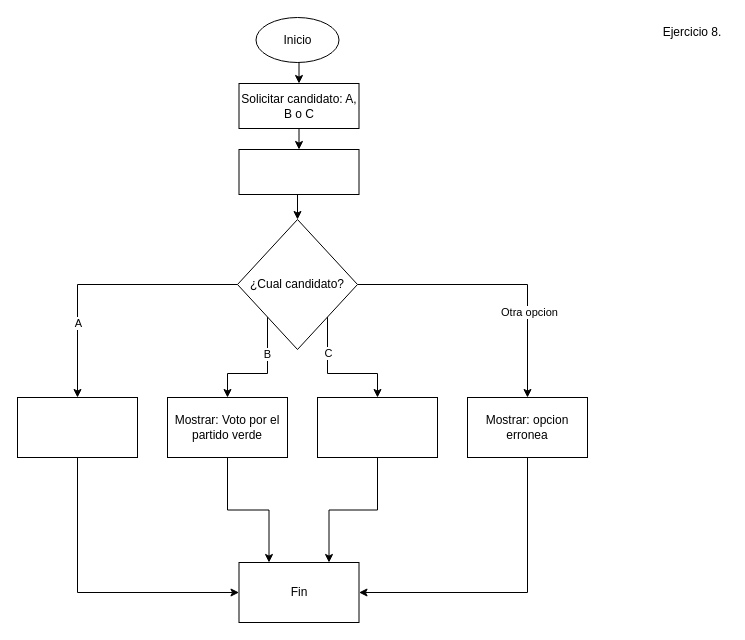
Some shapes in this 745 by 640 pixel diagram are drawn without their labels. Here are the shapes that lost their labels. From the top down, the box of each, then its label:
(238, 148, 359, 194): Convertir entrada a mayuscula
(16, 396, 138, 458): Mostrar: Voto por el partido rojo
(316, 396, 438, 458): Mostrar: Voto por el partido azul
